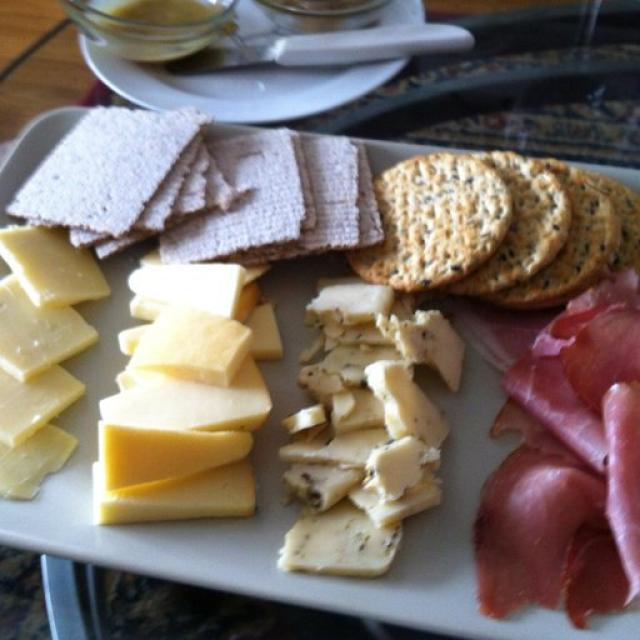Cheese: (91, 365, 274, 450), (96, 416, 258, 489), (136, 295, 252, 385), (89, 460, 260, 521), (0, 270, 95, 379), (0, 217, 112, 308), (0, 347, 82, 452), (0, 423, 72, 502)
